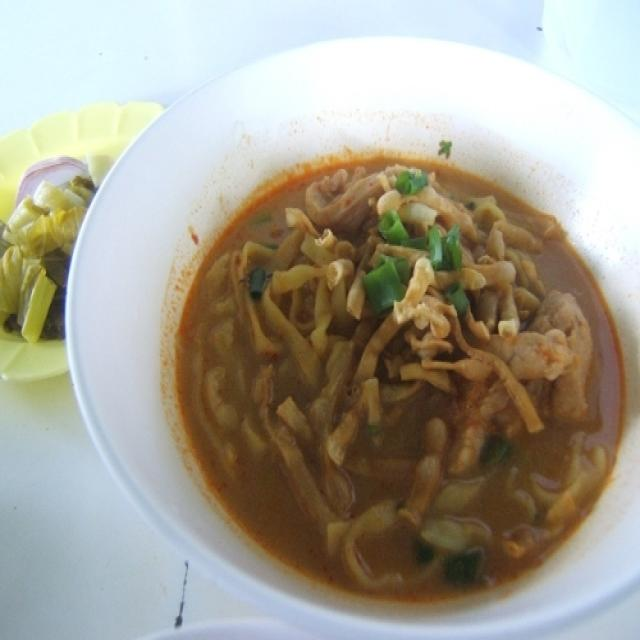面条主食: (139, 115, 621, 604)
